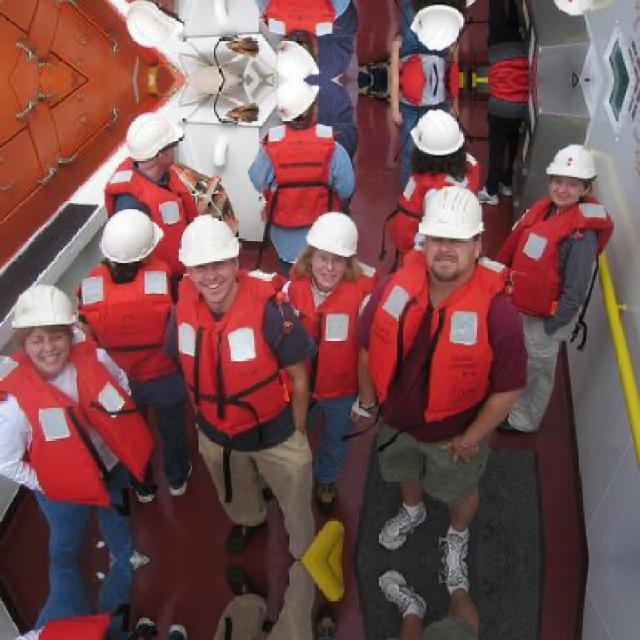helmet: (414, 172, 497, 297), (2, 274, 92, 383), (174, 209, 246, 308), (300, 200, 371, 298), (96, 202, 166, 278), (120, 110, 192, 176), (539, 140, 603, 209), (405, 104, 472, 168), (403, 0, 472, 57), (120, 0, 194, 52), (266, 80, 332, 132), (266, 28, 332, 80), (537, 0, 603, 22)
